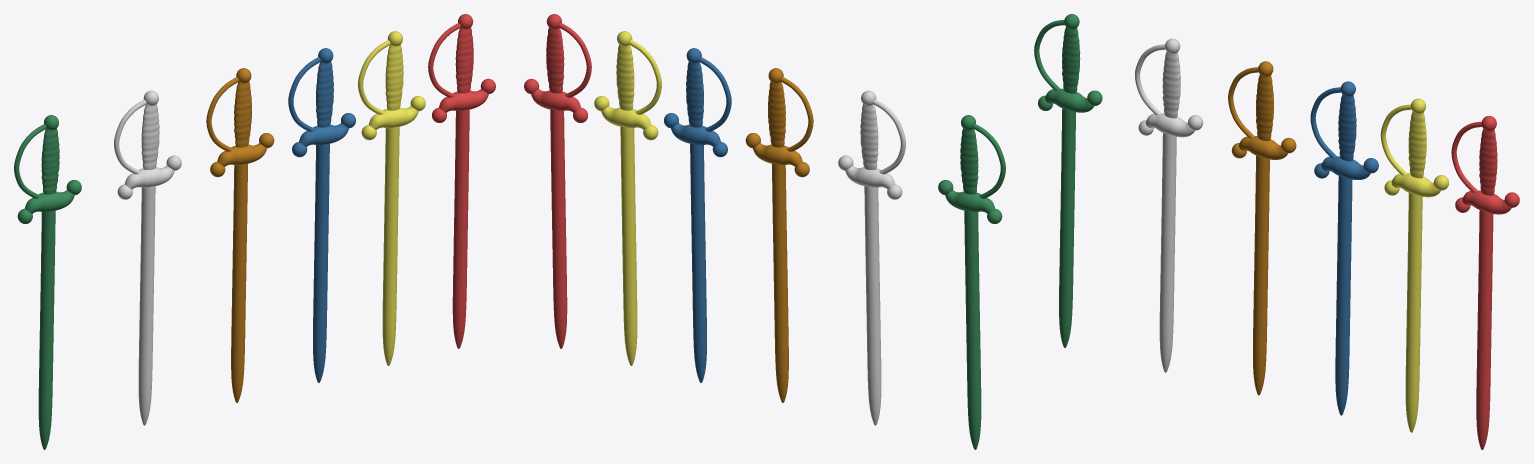
File: Cocktail_Toothpicks.fbx
3 views of the same model, side by side, from view 1: azimuth 30°, elevation 25°; view 2: azimuth 150°, elevation 25°; view 3: azimuth 330°, elevation 25° (orthographic).
Parts seen in each view (by area): view 1: Cocktail_Sword1, Cocktail_Sword4, Cocktail_Sword, Cocktail_Sword5, Cocktail_Sword2, Cocktail_Sword3; view 2: Cocktail_Sword1, Cocktail_Sword4, Cocktail_Sword, Cocktail_Sword5, Cocktail_Sword2, Cocktail_Sword3; view 3: Cocktail_Sword3, Cocktail_Sword4, Cocktail_Sword5, Cocktail_Sword1, Cocktail_Sword, Cocktail_Sword2.
Boxes of the visible parts, x1=… form: Cocktail_Sword1: x1=114, y1=90, x2=181, y2=425; Cocktail_Sword4: x1=358, y1=31, x2=425, y2=365; Cocktail_Sword: x1=14, y1=115, x2=81, y2=449; Cocktail_Sword5: x1=428, y1=14, x2=495, y2=348; Cocktail_Sword2: x1=206, y1=68, x2=274, y2=402; Cocktail_Sword3: x1=288, y1=48, x2=355, y2=382; Cocktail_Sword1: x1=838, y1=90, x2=905, y2=425; Cocktail_Sword4: x1=594, y1=31, x2=661, y2=365; Cocktail_Sword: x1=938, y1=115, x2=1005, y2=449; Cocktail_Sword5: x1=524, y1=14, x2=591, y2=348; Cocktail_Sword2: x1=745, y1=68, x2=813, y2=402; Cocktail_Sword3: x1=664, y1=48, x2=731, y2=382; Cocktail_Sword3: x1=1310, y1=81, x2=1378, y2=415; Cocktail_Sword4: x1=1380, y1=98, x2=1448, y2=432; Cocktail_Sword5: x1=1451, y1=116, x2=1519, y2=449; Cocktail_Sword1: x1=1135, y1=38, x2=1203, y2=372; Cocktail_Sword: x1=1034, y1=14, x2=1102, y2=347; Cocktail_Sword2: x1=1228, y1=61, x2=1296, y2=395.
Size of the model in its own units: 0.0762 by 0.0504 by 0.0028.
6 materials, 6 textured.
